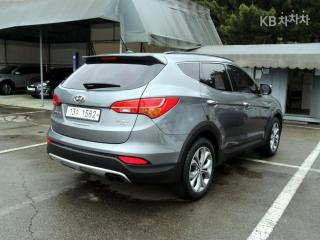1: (81, 109, 85, 117), (69, 107, 72, 116)
2: (92, 110, 97, 120)
3: (72, 107, 76, 117)
5: (85, 109, 89, 117)
8: (89, 109, 92, 119)
plate: (63, 102, 103, 125)
수: (76, 108, 80, 117)
